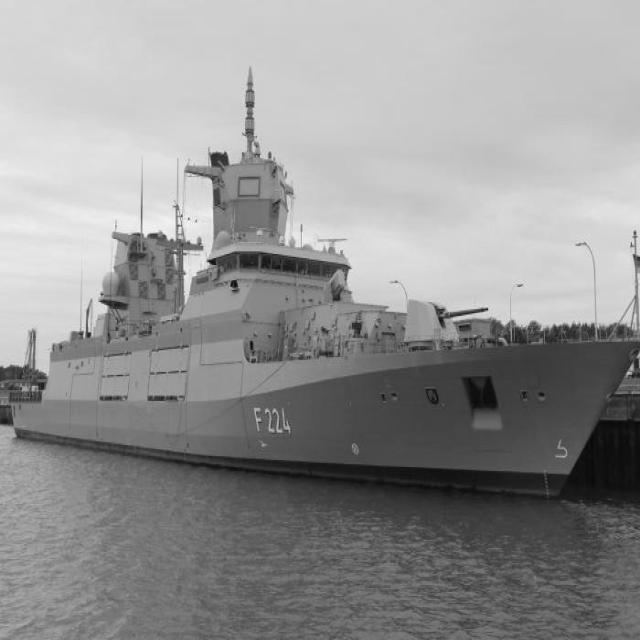Fragata: (6, 52, 640, 508)
